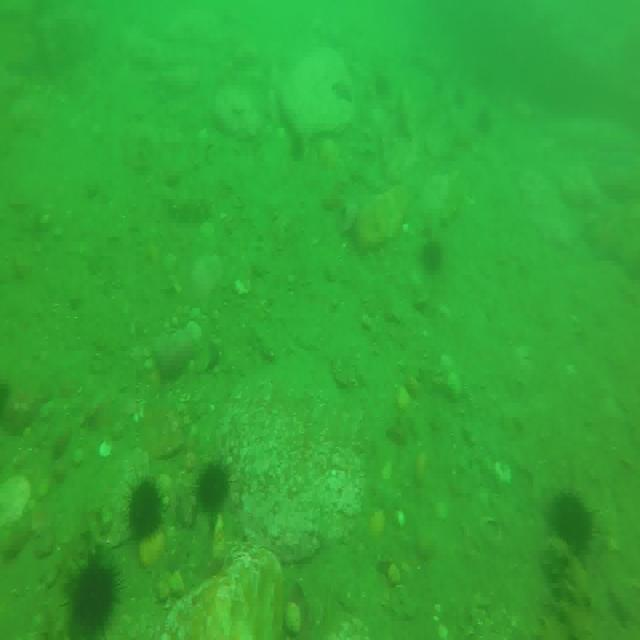echinus: (69, 554, 116, 640), (553, 487, 596, 554), (127, 478, 163, 538), (198, 461, 232, 510), (423, 237, 445, 280)
holothurian: (541, 536, 589, 640)
